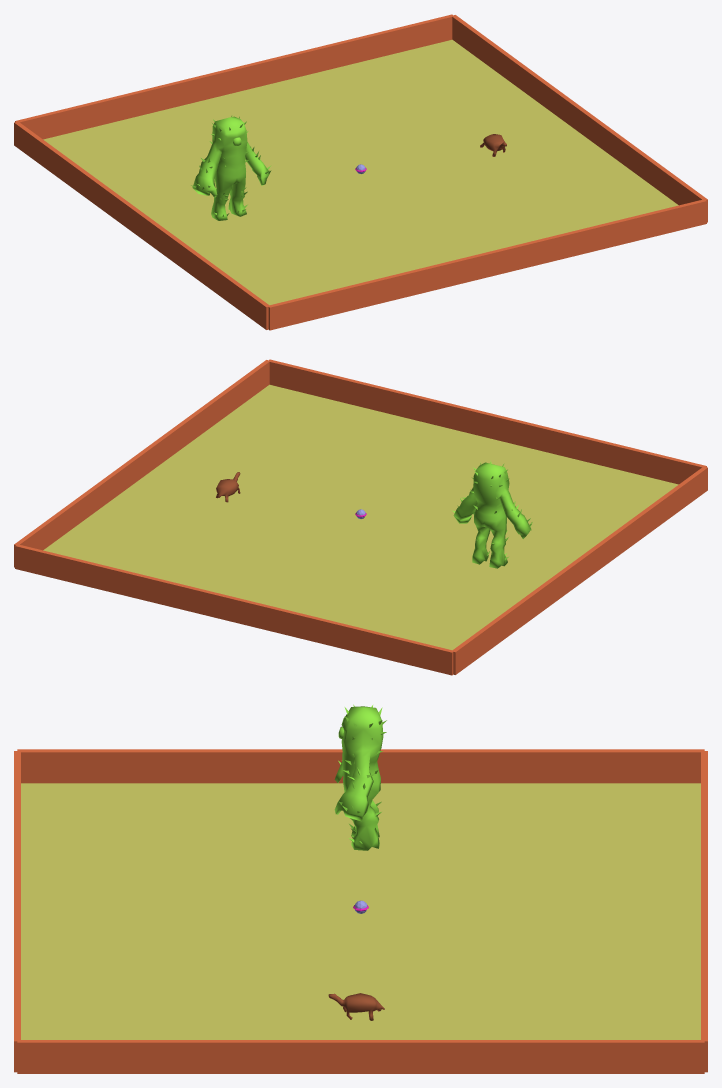
The model's file is game.fbx.
The picture shows the model from 3 angles, top to bottom: view 1: azimuth 30°, elevation 25°; view 2: azimuth 150°, elevation 25°; view 3: azimuth 270°, elevation 25°; orthographic projection. The views are drawn at different scales.
Parts seen in each view (by area): view 1: Ground, Wall.003, Wall.002, Wall, Wall.001, Cactus; view 2: Ground, Wall.002, Wall.003, Wall, Wall.001, Cactus; view 3: Ground, Wall.001, Wall, Cactus, Wall.002, Wall.003, Turtle.
Part boxes in pixels (bbox=[...]): Ground: bbox=[43, 39, 678, 305]; Wall.003: bbox=[268, 199, 706, 330]; Wall.002: bbox=[15, 14, 454, 139]; Wall: bbox=[14, 121, 270, 329]; Wall.001: bbox=[452, 15, 707, 222]; Cactus: bbox=[191, 115, 271, 220]; Ground: bbox=[43, 384, 678, 650]; Wall.002: bbox=[15, 544, 454, 675]; Wall.003: bbox=[269, 359, 706, 484]; Wall: bbox=[452, 466, 707, 674]; Wall.001: bbox=[14, 360, 270, 567]; Cactus: bbox=[452, 460, 532, 568]; Ground: bbox=[21, 783, 700, 1039]; Wall.001: bbox=[17, 1040, 704, 1073]; Wall: bbox=[17, 749, 704, 783]; Cactus: bbox=[334, 704, 386, 850]; Wall.002: bbox=[701, 751, 707, 1072]; Wall.003: bbox=[14, 751, 20, 1072]; Turtle: bbox=[328, 993, 384, 1020].
Bounding box in the file's own units: 5050 × 1071 × 5050.
